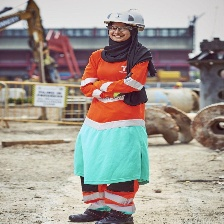helmet: (97, 5, 149, 29)
no-vest: (84, 44, 152, 118)
person: (69, 5, 155, 224)
